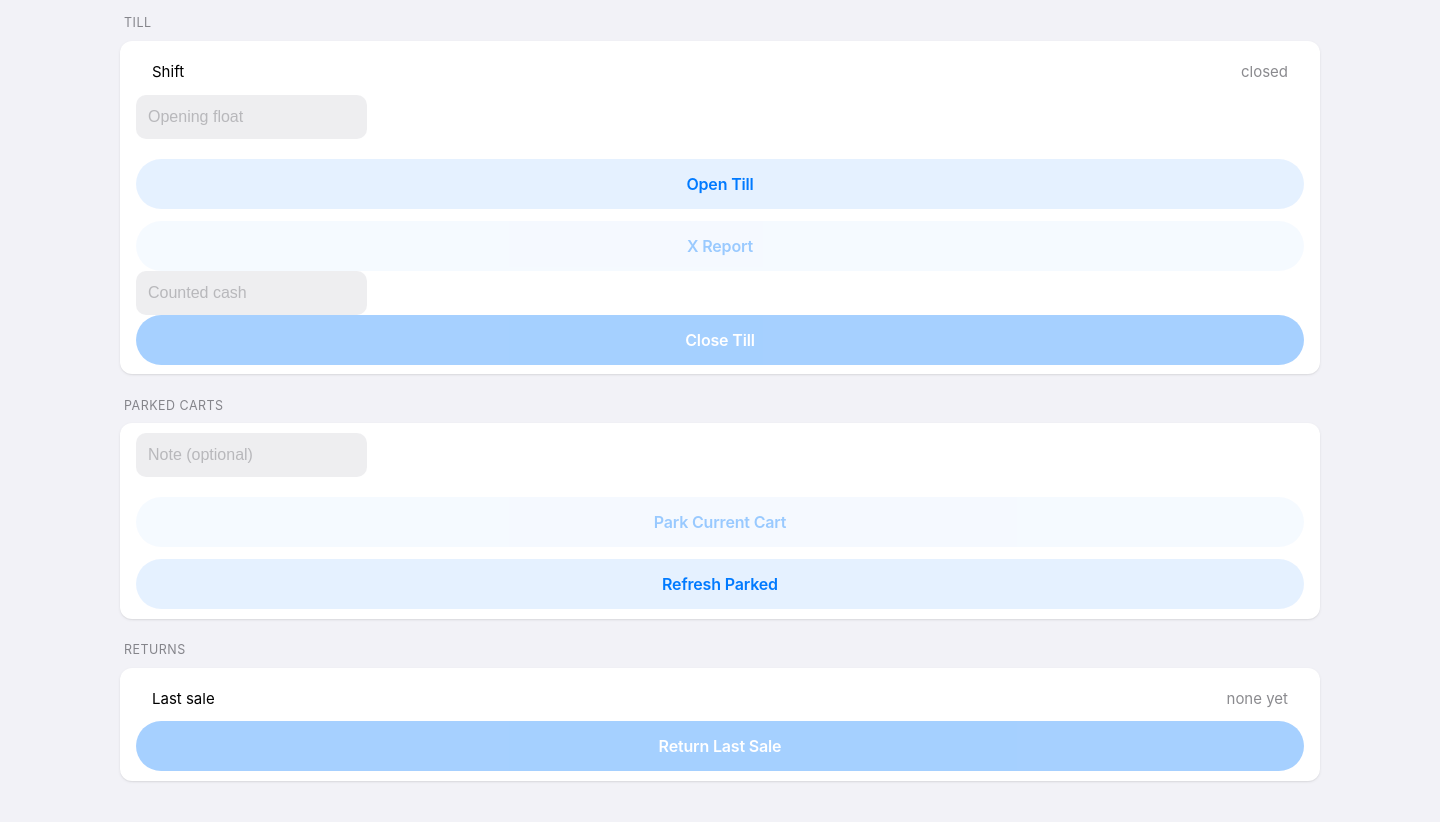
Test: StoreOpsPanel till › opens a till with the float in cents, then runs an X report for that shift
Expected: the button "X Report" is disabled, [136, 221, 1304, 271]
Type "50.00" into the number field labelled "Opening float" at (252, 117), box [136, 95, 367, 139]
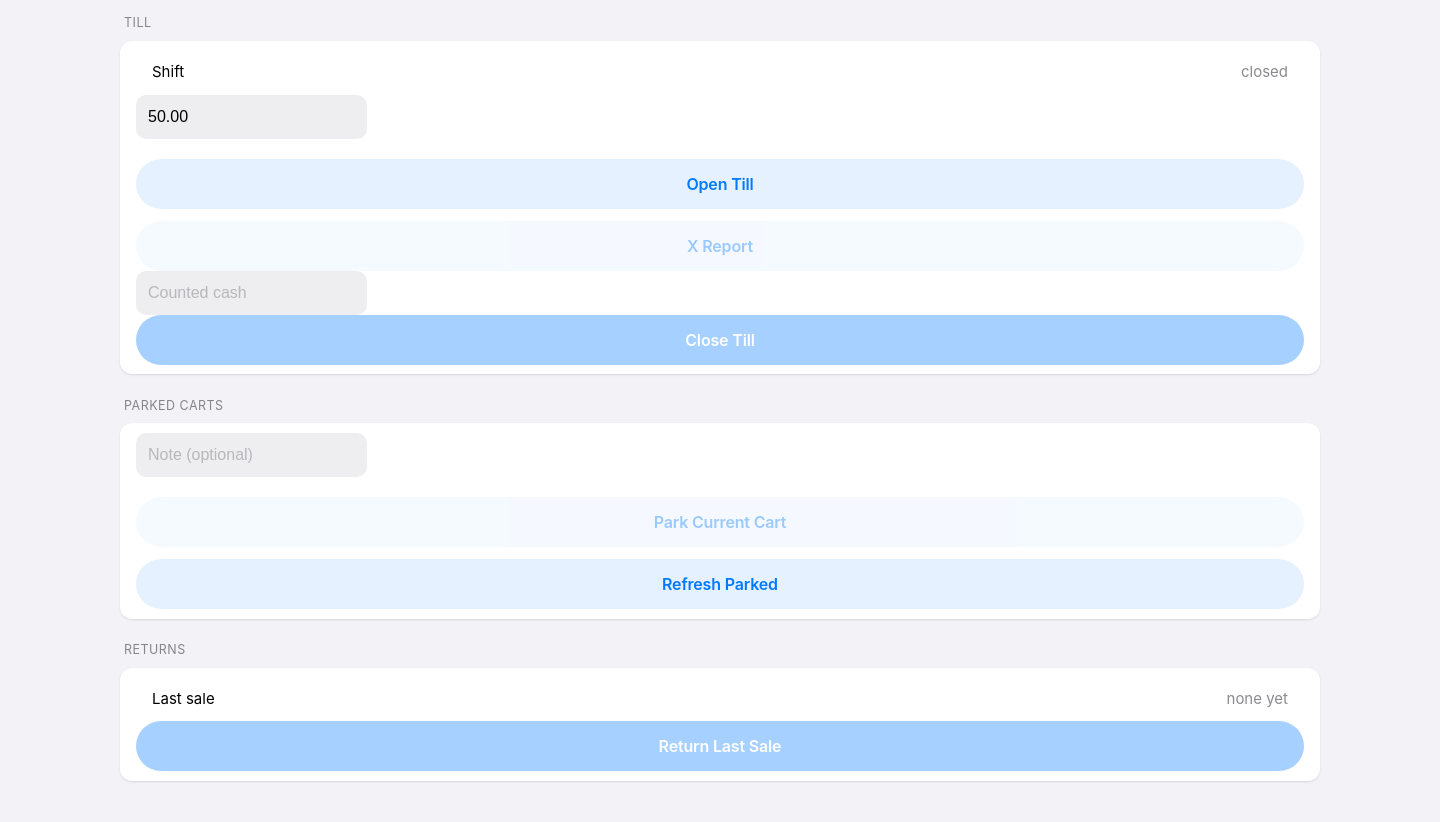
Click the button "Open Till" at (720, 184), box [136, 159, 1304, 209]
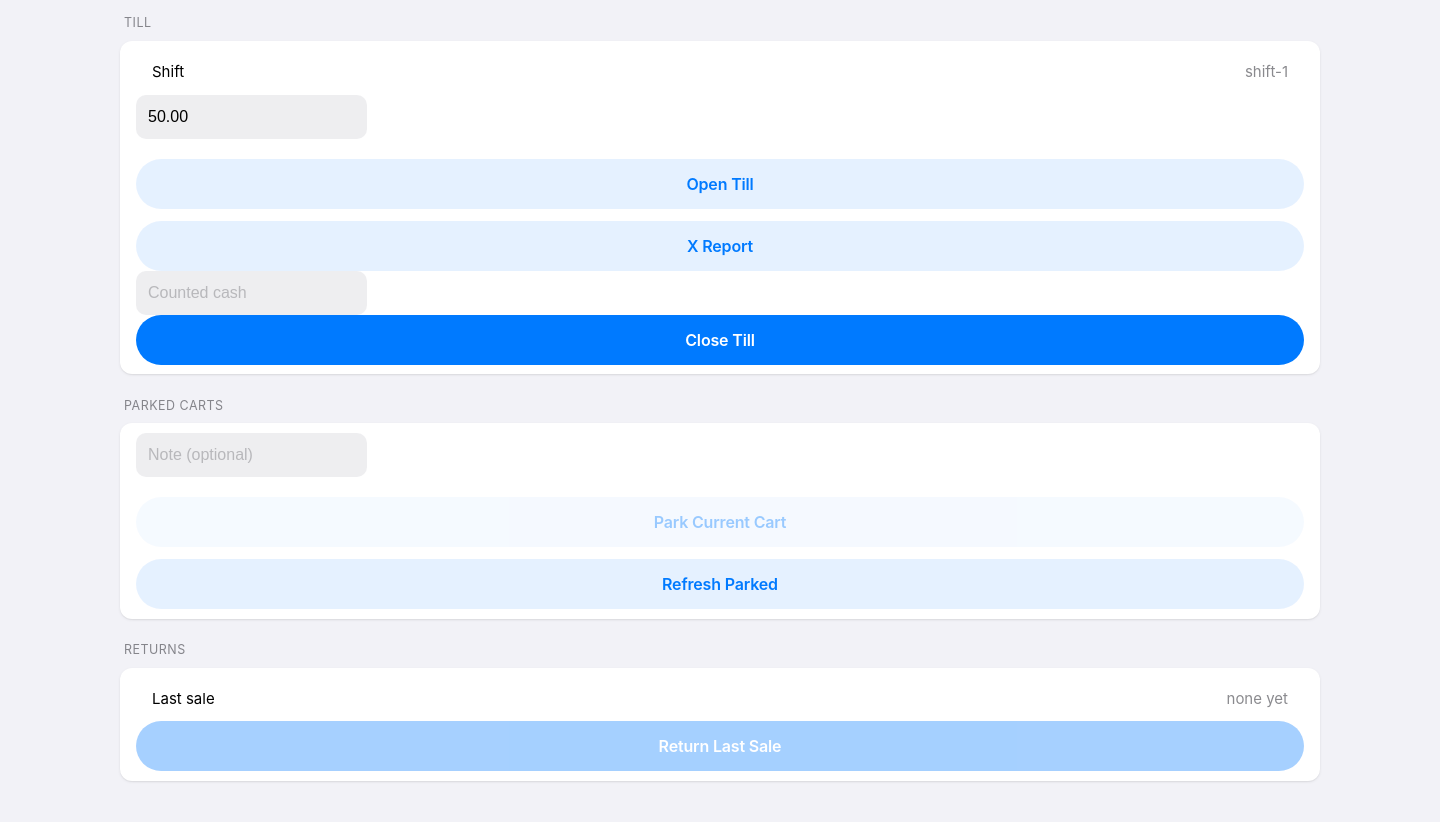
Expected: the text "shift-1" is shown, [1245, 62, 1288, 84]
Click the button "X Report" at (720, 246), box [136, 221, 1304, 271]
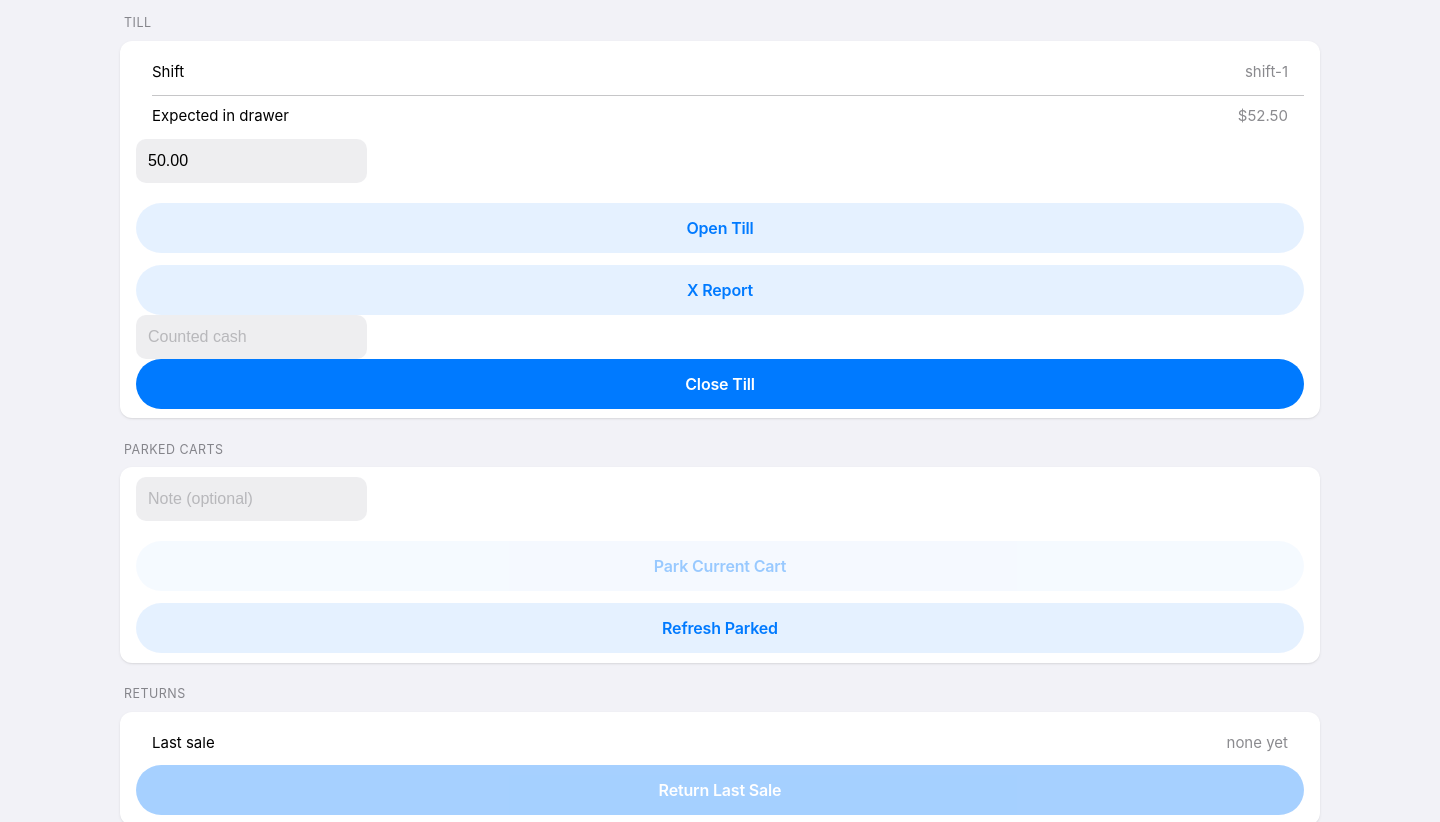
Expected: the text "$52.50" is shown, [1238, 106, 1288, 128]
